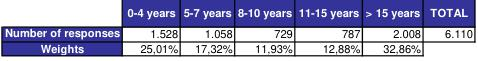table: (3, 4, 471, 55)
table column: (3, 4, 122, 55), (294, 4, 362, 55), (362, 4, 424, 55), (234, 4, 294, 55), (122, 4, 179, 55), (179, 4, 234, 55), (424, 4, 471, 55)
table column header: (3, 4, 471, 21)
table row: (3, 21, 471, 39), (3, 4, 471, 21), (3, 39, 471, 55)
